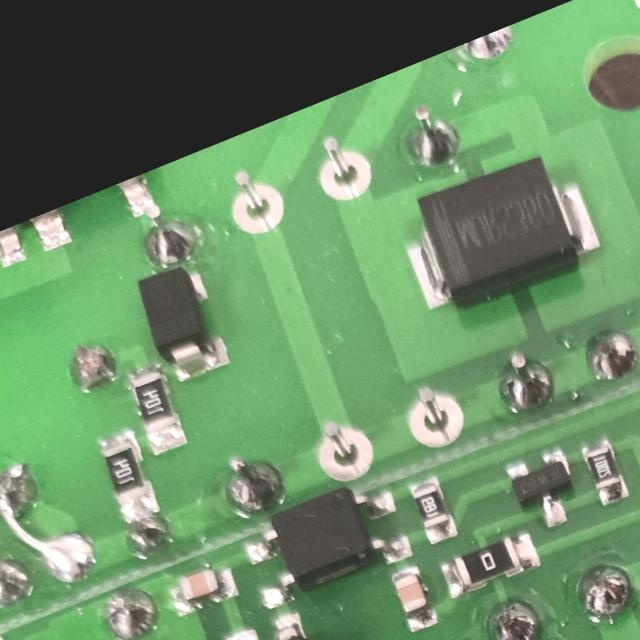chip-capacitor: (161, 557, 242, 620), (380, 559, 441, 636)
chip-resistor: (433, 524, 546, 603), (115, 357, 193, 459), (88, 425, 165, 527), (572, 429, 633, 512), (401, 469, 463, 548)
diode: (380, 137, 605, 324), (124, 255, 238, 390)
ic: (227, 467, 414, 617)
transistor: (496, 440, 592, 540)
